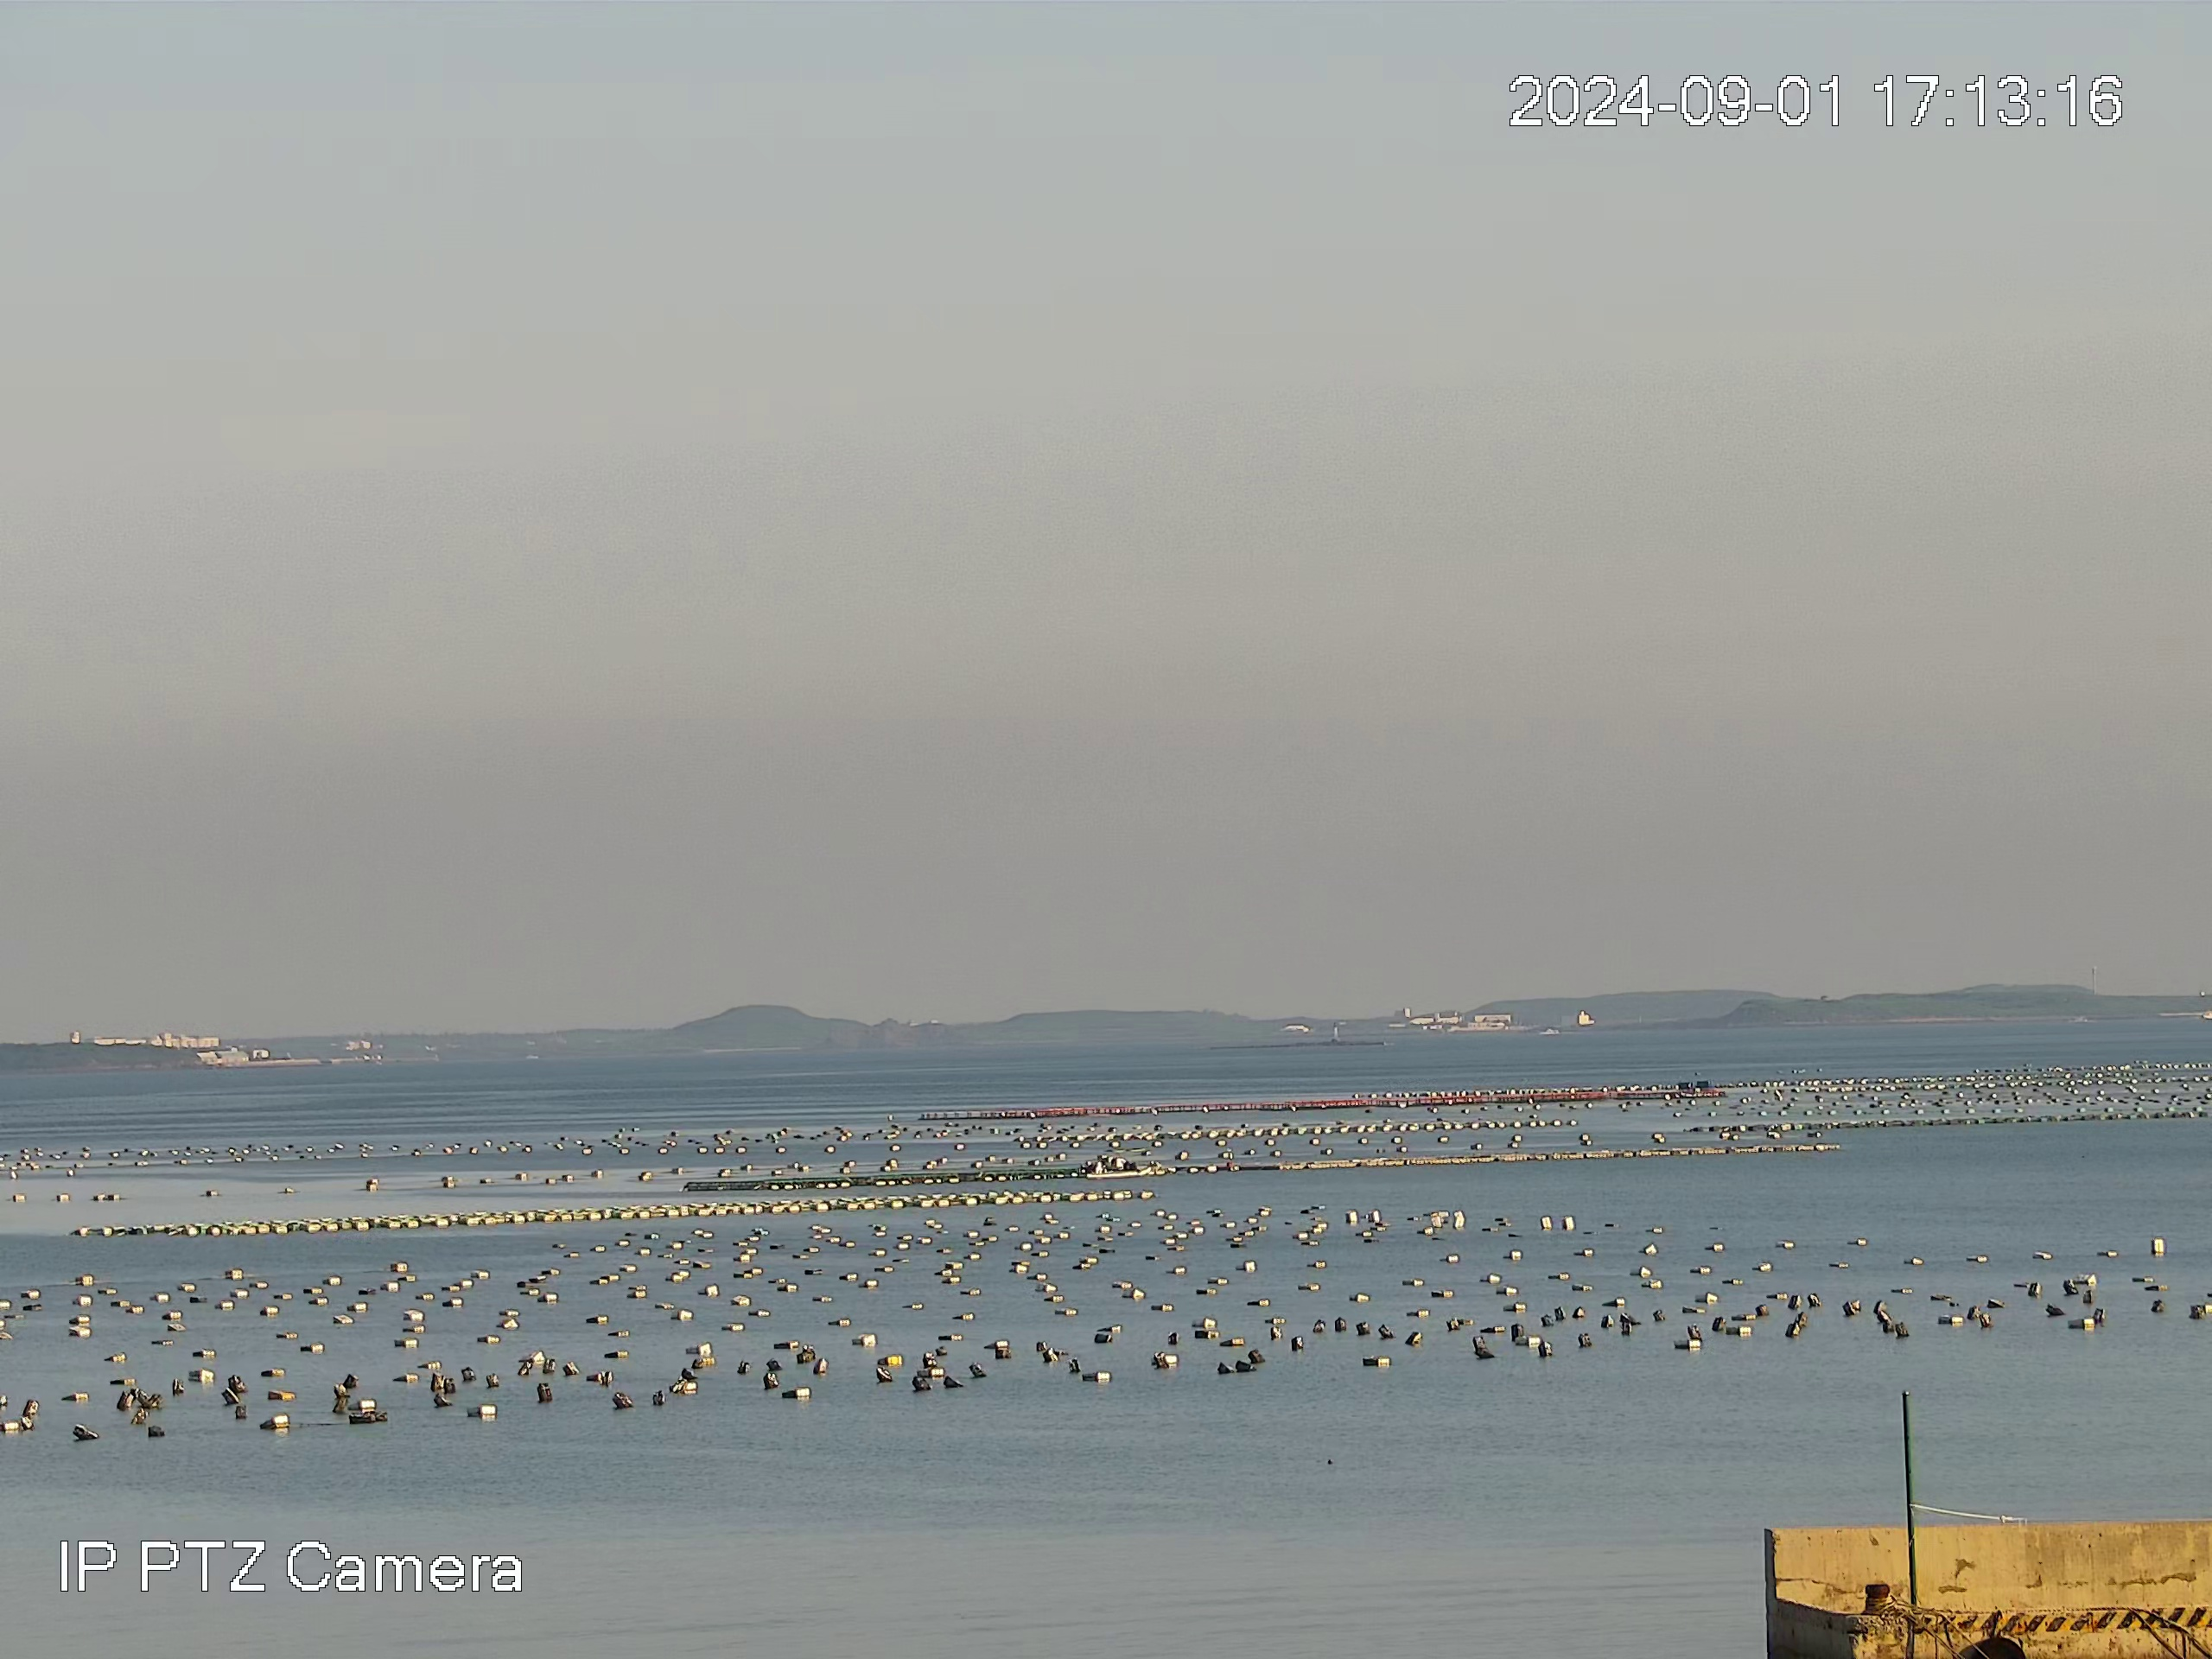boat: (1092, 1152, 1148, 1176)
